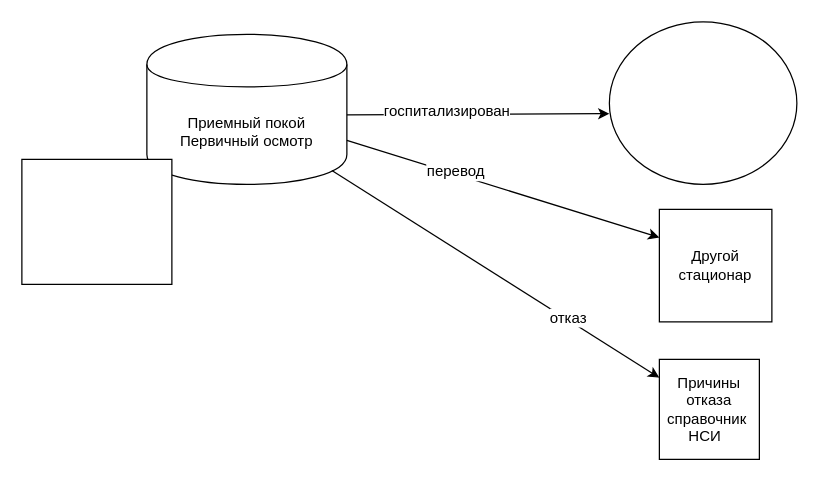
The diagram is 819 pixels wide and 481 high, and some of its shapes have lost their labels. The box of each missing label's shape, as (x1, y1, x2, y2) in pixels:
Документы к оформлению Ф № 001 у Ф № 002 у Протоколы осмотра: (21, 158, 172, 284)
Отделение лечения: (608, 21, 797, 184)
